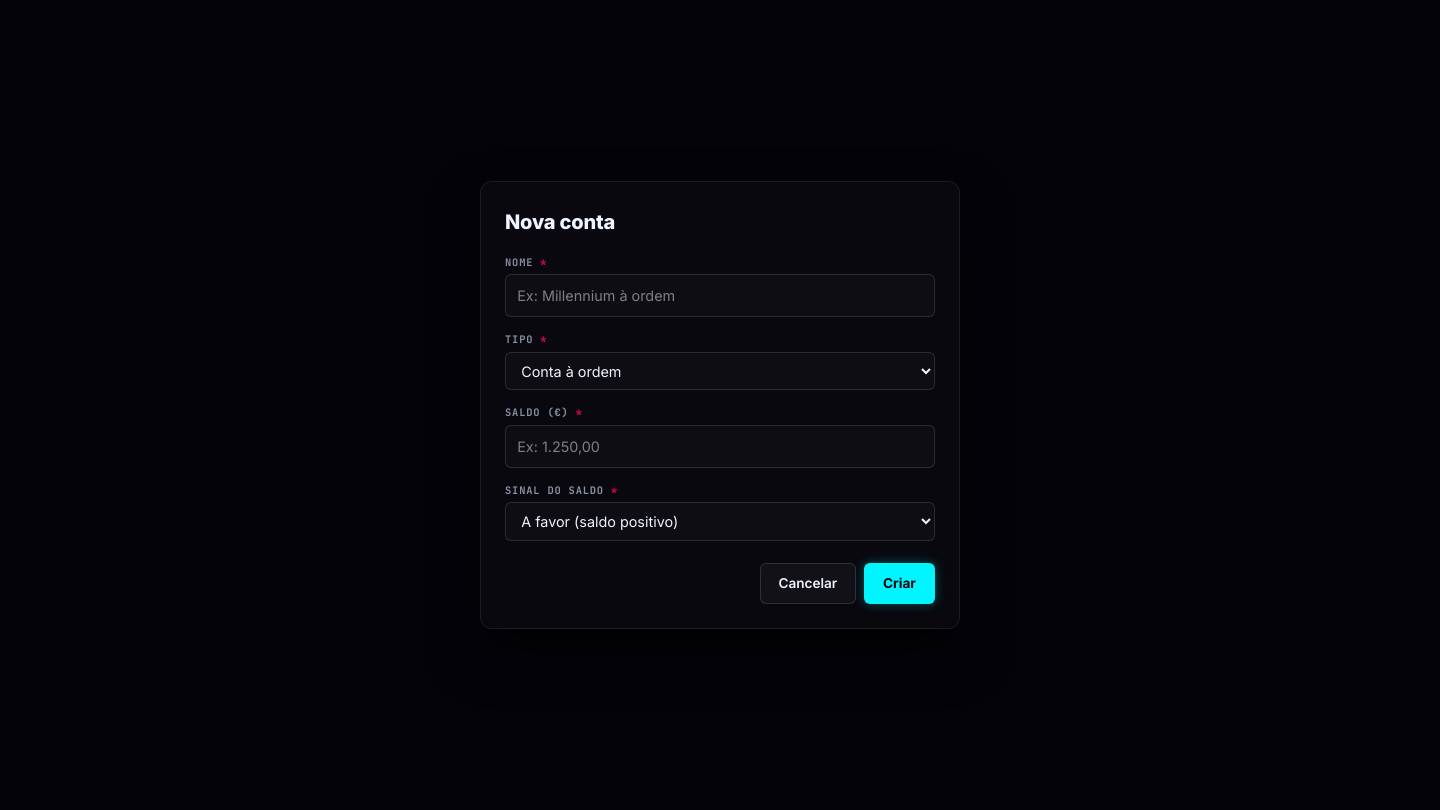
AccountFormModal (Story 9.1b / cobertura finanças) › caminho de erro 2 (Zod) — nome vazio mostra "Nome da conta é obrigatório"
This screenshot has width=1440, height=810.
In the field with id "account-balance": (720, 446) [505,425,935,468], type "100,00"
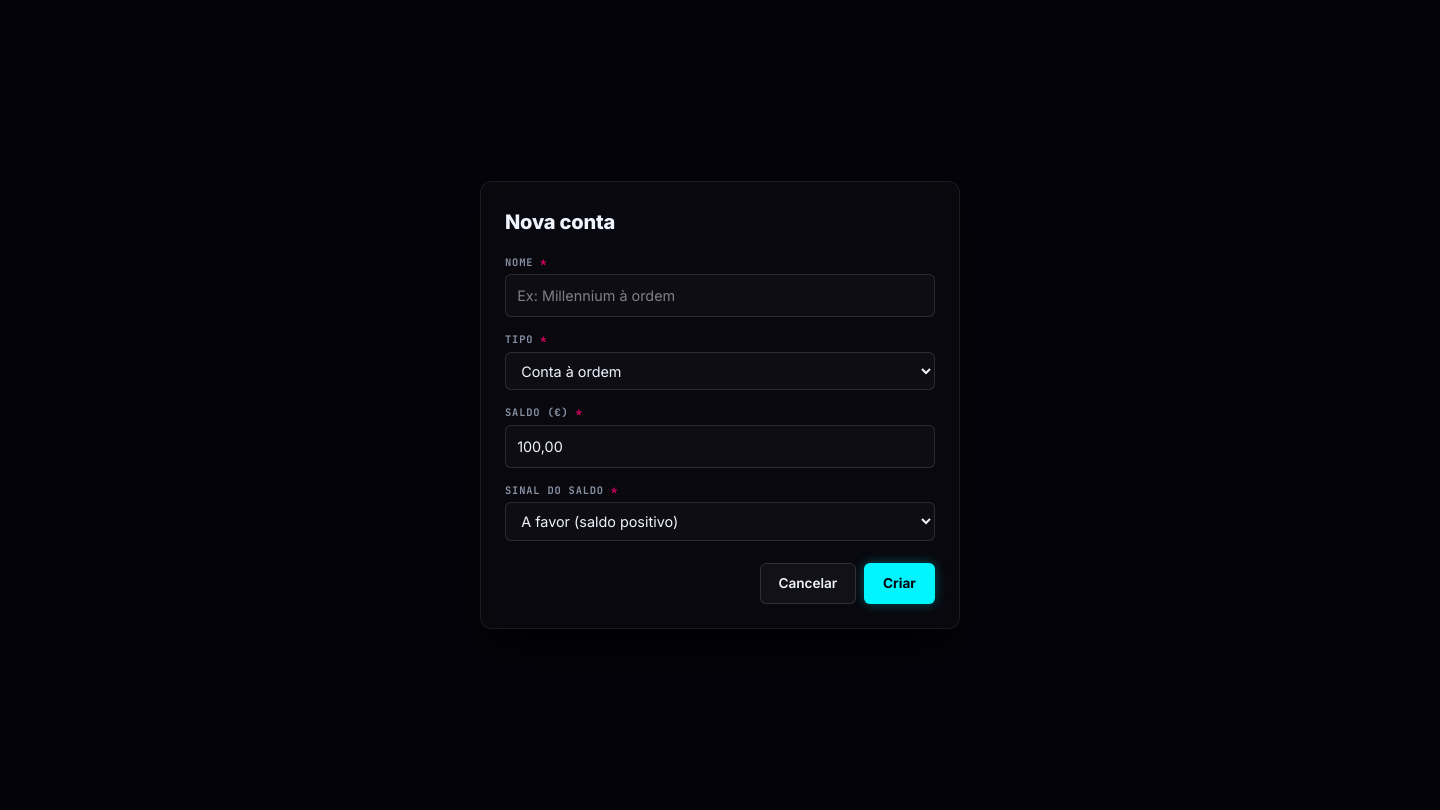
Click the button "Criar": (899, 583) [864,563,935,604]
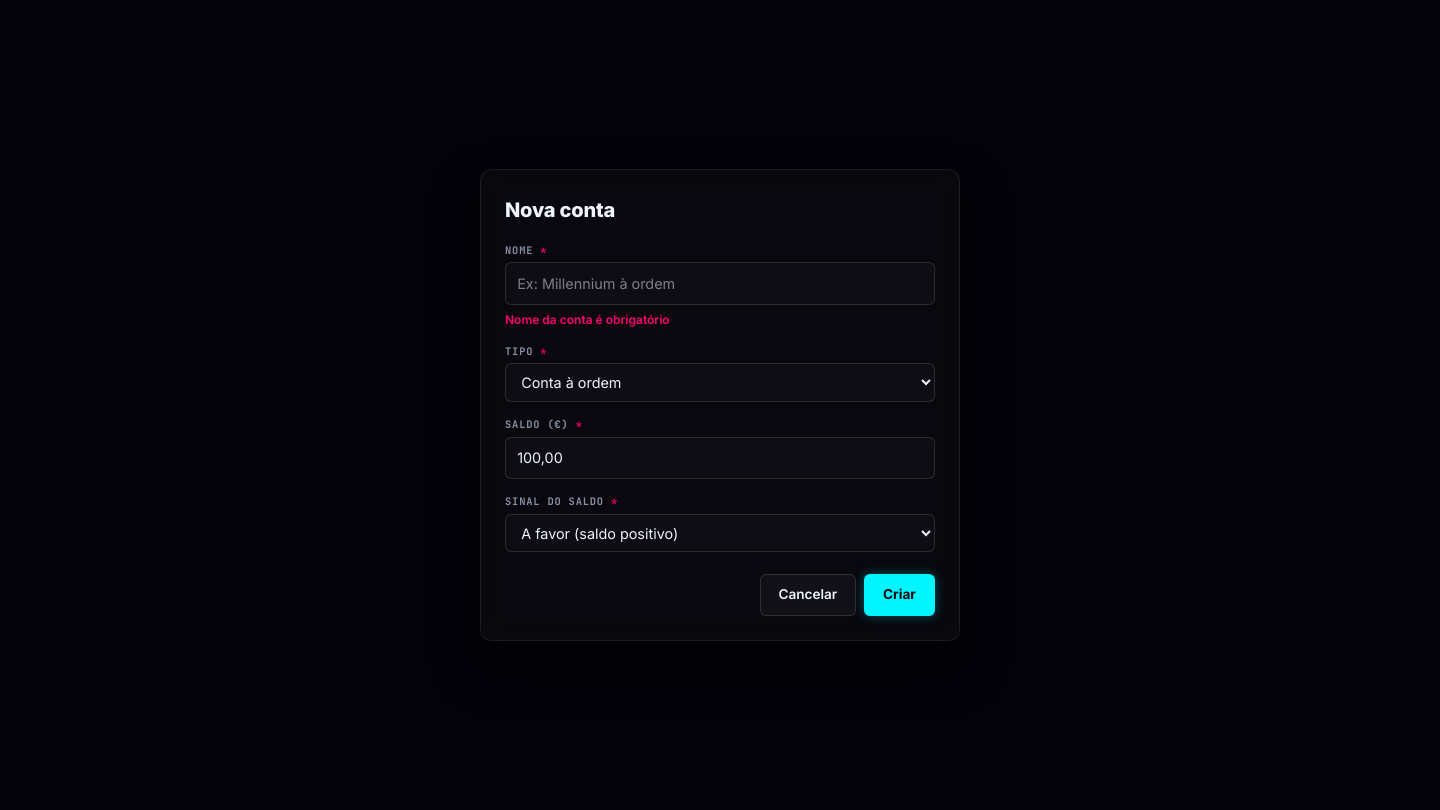
Check: the message reads "Nome da conta é obrigatório", box [505,312,670,326]
